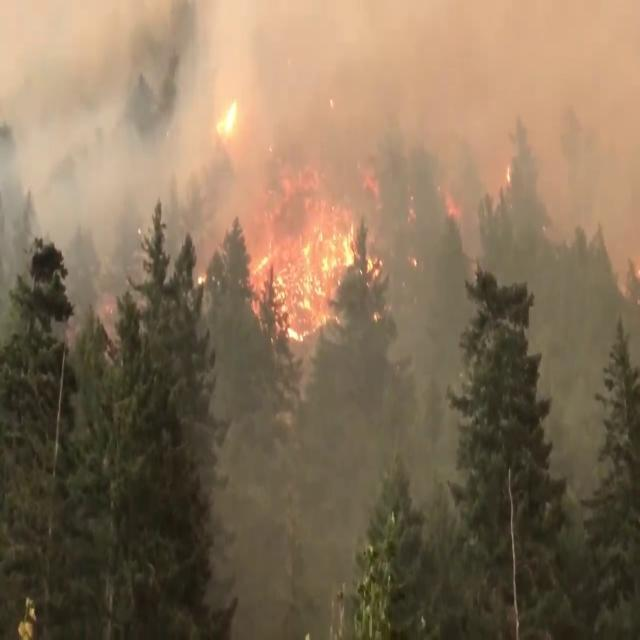Fire: (248, 164, 384, 344), (216, 98, 238, 136)
Smoke: (0, 1, 640, 640)
